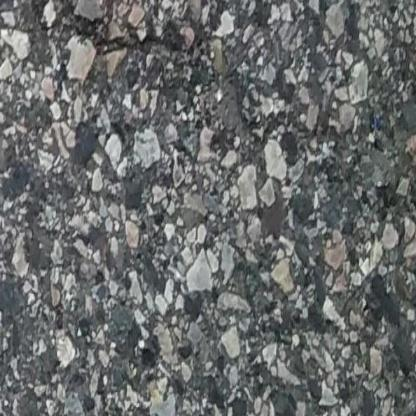Cracks: (20, 0, 170, 67)
